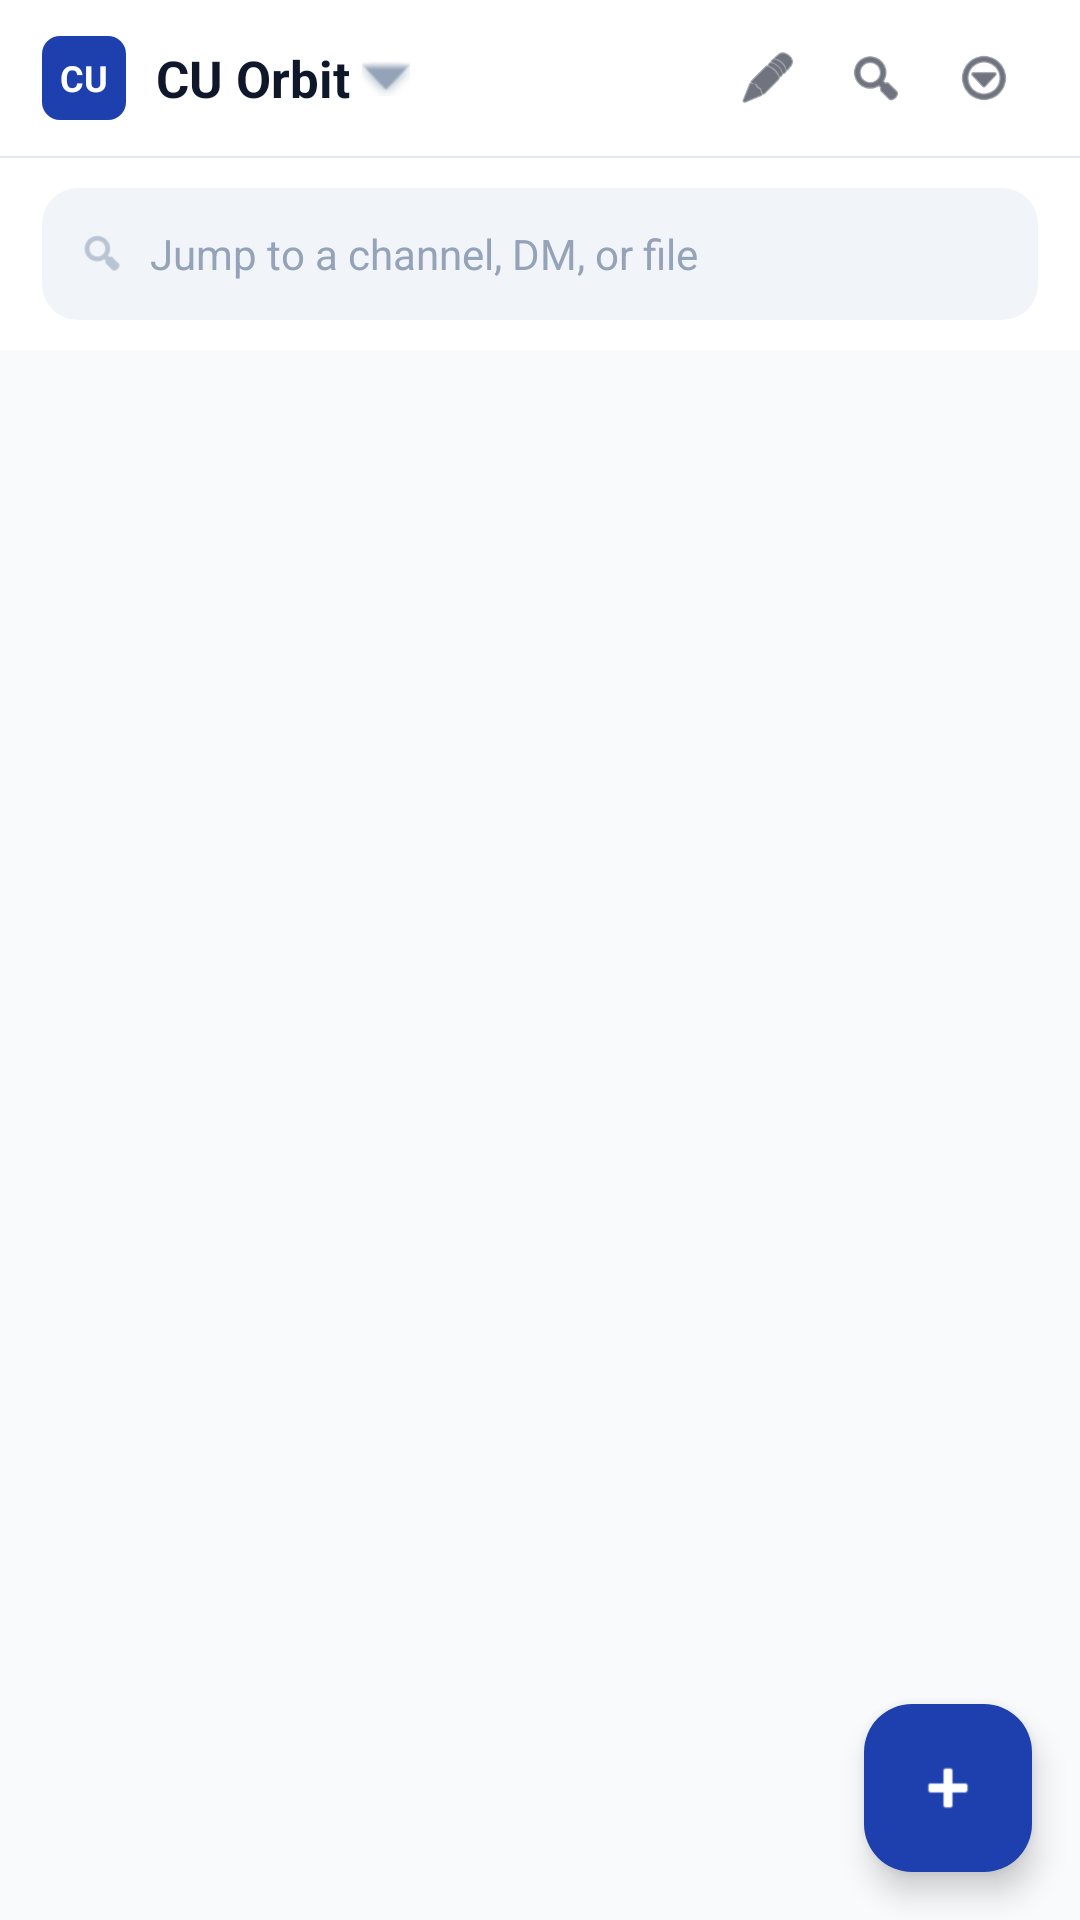

Locate icon controls on the screen. Image size 1080×1920, boxes as (x1, y1, x2, y2).
add: (864, 1704, 1032, 1872)
arrow down float: (362, 63, 410, 91)
edit: (742, 52, 793, 103)
more: (962, 56, 1006, 100)
search: (854, 56, 898, 101), (85, 236, 119, 271)
